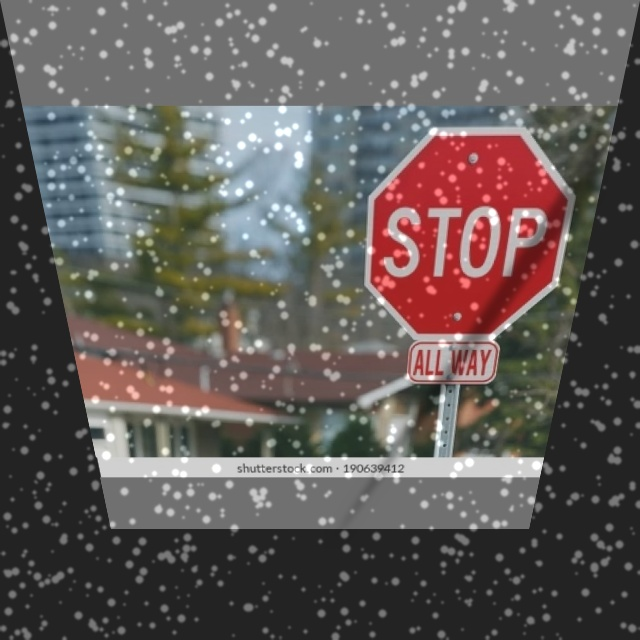Stop: (364, 126, 589, 340)
